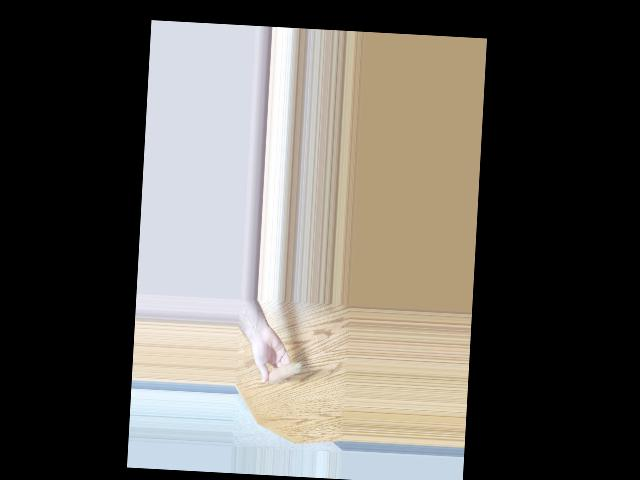sweet_potato: (265, 358, 302, 385)
